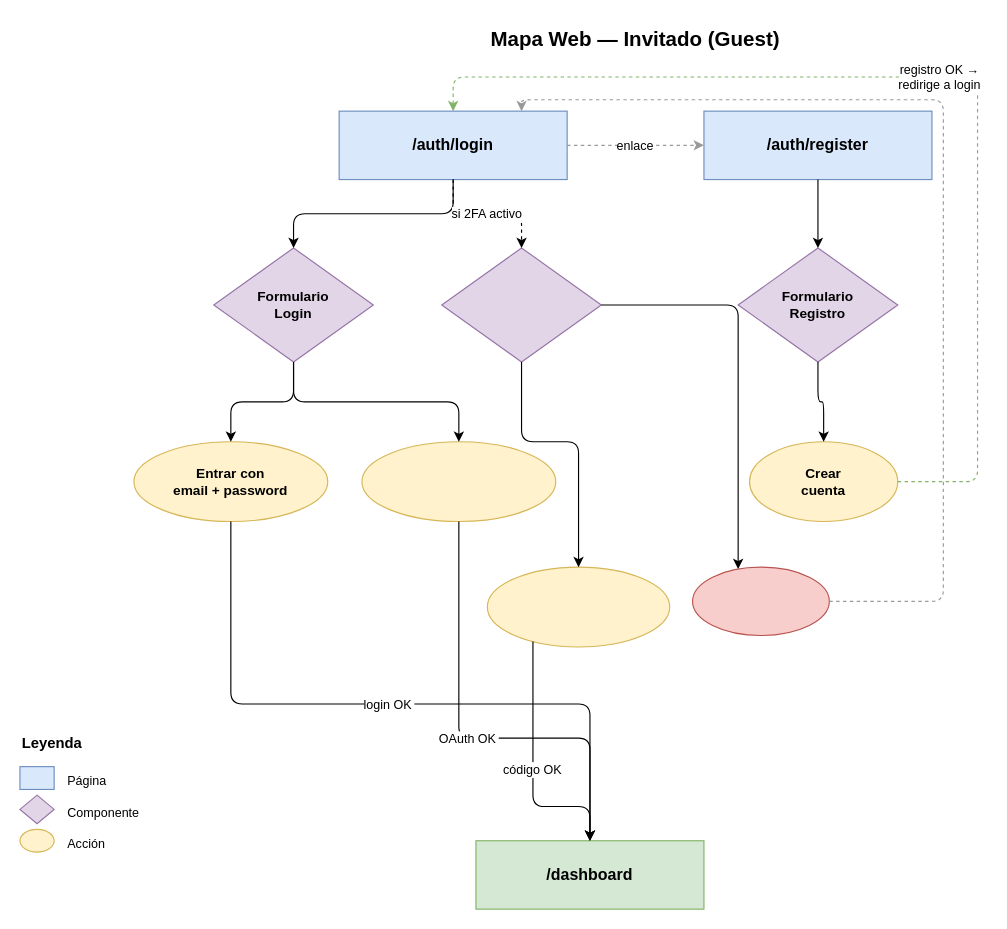
Some shapes in this 1007 by 929 pixel diagram are drawn without their labels. Here are the shapes that lost their labels. From the top down, the centre of each, then its label:
At point 521,304: "Input 2FA (condicional)".
At point 458,481: "Continuar con Google OAuth".
At point 578,606: "Verificar código TOTP".
At point 760,601: "Volver al login".
